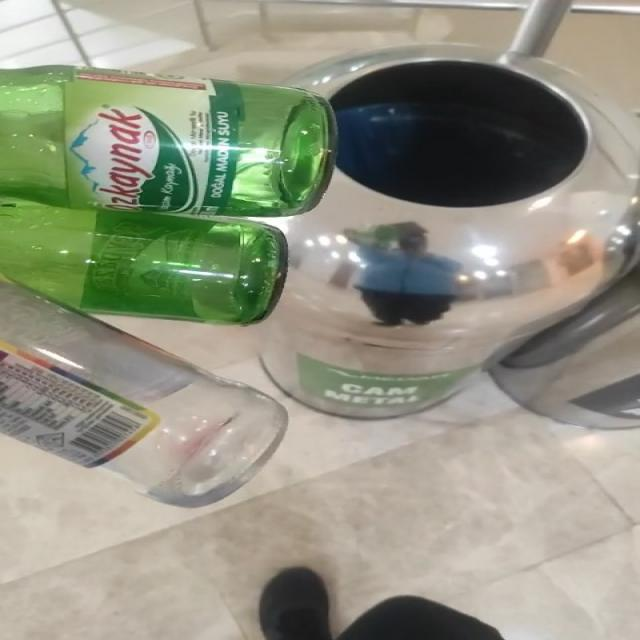glass: (1, 65, 336, 508)
